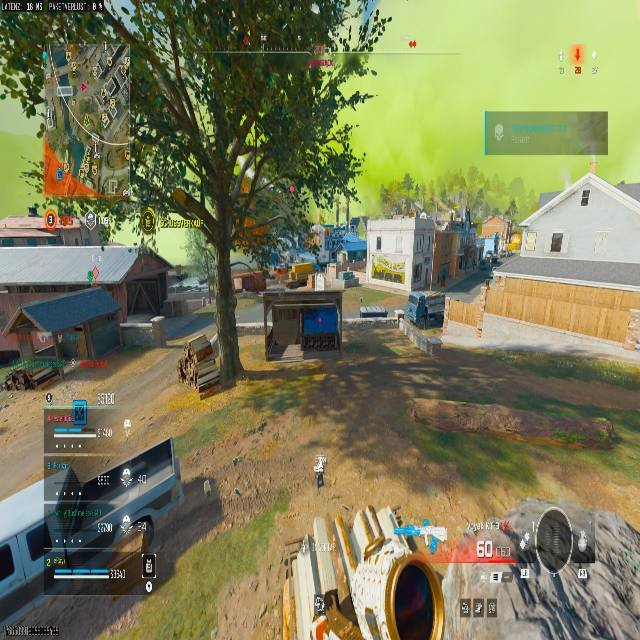head: (486, 250, 492, 258)
player: (481, 250, 500, 288)
